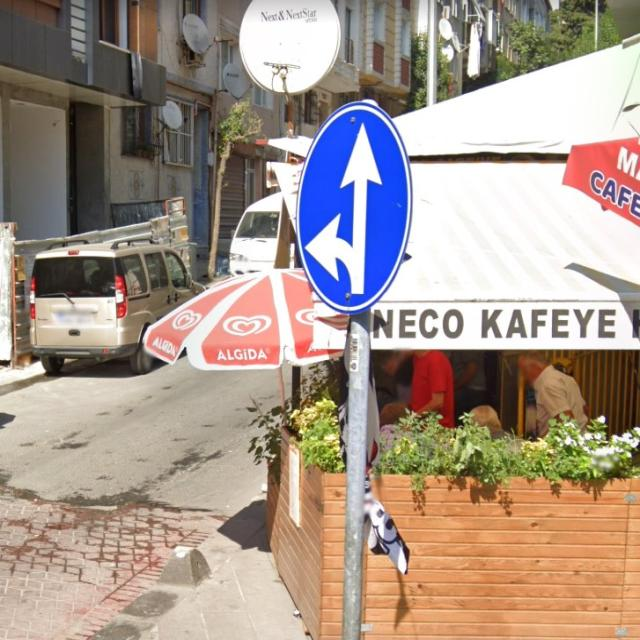ilerisol: (297, 102, 413, 314)
